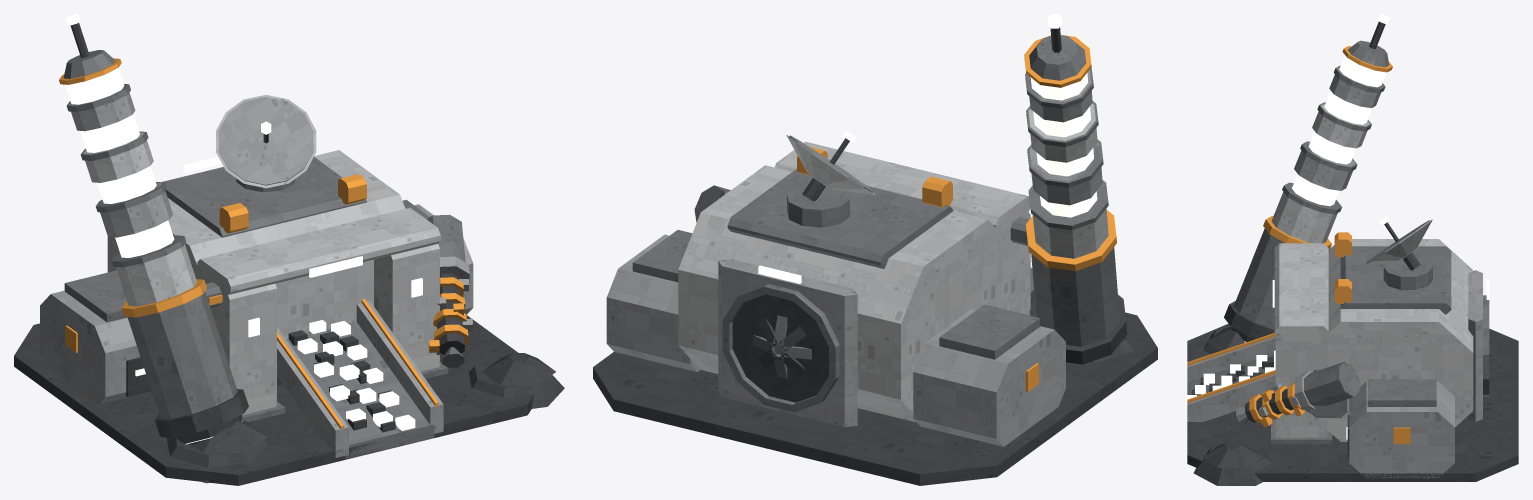
File: rig_bore_lod1.glb
3 renders of one model, left to right at view 1: azimuth 30°, elevation 25°; view 2: azimuth 150°, elevation 25°; view 3: azimuth 270°, elevation 25°, orthographic. The views are drawn at different scales.
Parts seen in each view (by area): view 1: rig_bore_base_body.001, rig_bore_dish_body.001, rig_bore_bore_glow.001, rig_bore_base_trim.001, rig_bore_ore_glow.001, rig_bore_auger_r_body.001, rig_bore_base_glow.001, rig_bore_auger_r_trim.001, rig_bore_bore_body.001; view 2: rig_bore_base_body.001, rig_bore_base_trim.001, rig_bore_bore_glow.001, rig_bore_dish_body.001, rig_bore_fan_body.001, rig_bore_base_glow.001; view 3: rig_bore_base_body.001, rig_bore_bore_glow.001, rig_bore_base_trim.001, rig_bore_dish_body.001, rig_bore_auger_r_trim.001, rig_bore_ore_glow.001, rig_bore_auger_r_body.001.
Part boxes in pixels (x1,y1,x2,y2): rig_bore_base_body.001: (14, 22, 564, 485); rig_bore_dish_body.001: (216, 95, 316, 188); rig_bore_bore_glow.001: (65, 68, 242, 444); rig_bore_base_trim.001: (59, 58, 438, 429); rig_bore_ore_glow.001: (297, 320, 415, 430); rig_bore_auger_r_body.001: (436, 273, 472, 367); rig_bore_base_glow.001: (65, 14, 422, 376); rig_bore_auger_r_trim.001: (428, 277, 468, 352); rig_bore_bore_body.001: (170, 414, 242, 444); rig_bore_base_body.001: (593, 27, 1157, 485); rig_bore_base_trim.001: (797, 35, 1116, 391); rig_bore_bore_glow.001: (1030, 73, 1097, 217); rig_bore_dish_body.001: (786, 135, 875, 201); rig_bore_fan_body.001: (753, 315, 811, 379); rig_bore_base_glow.001: (758, 14, 1062, 283); rig_bore_base_body.001: (1187, 21, 1518, 485); rig_bore_bore_glow.001: (1230, 55, 1386, 342); rig_bore_base_trim.001: (1187, 46, 1410, 443); rig_bore_dish_body.001: (1365, 220, 1432, 270); rig_bore_auger_r_trim.001: (1249, 382, 1304, 427); rig_bore_ore_glow.001: (1186, 355, 1275, 406); rig_bore_auger_r_body.001: (1236, 383, 1299, 424).
Size of the model in its own units: 3.11 by 3.03 by 2.71.
Materials: 3 (1 with a texture image).
